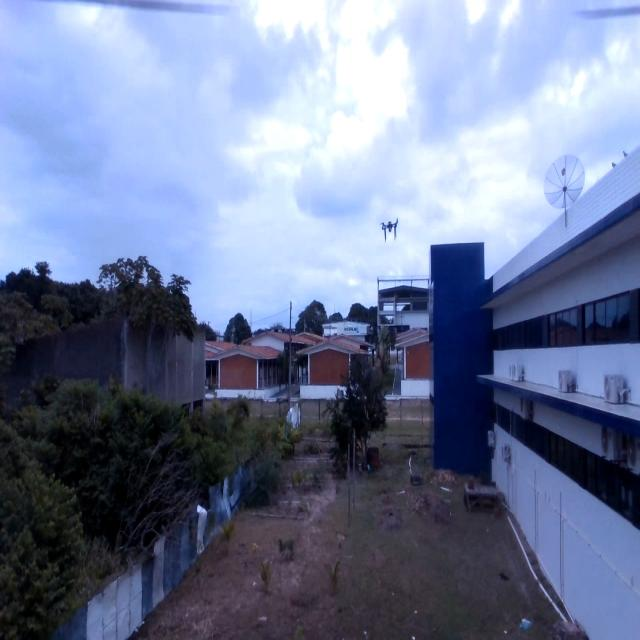-uav-: (376, 213, 402, 252)
